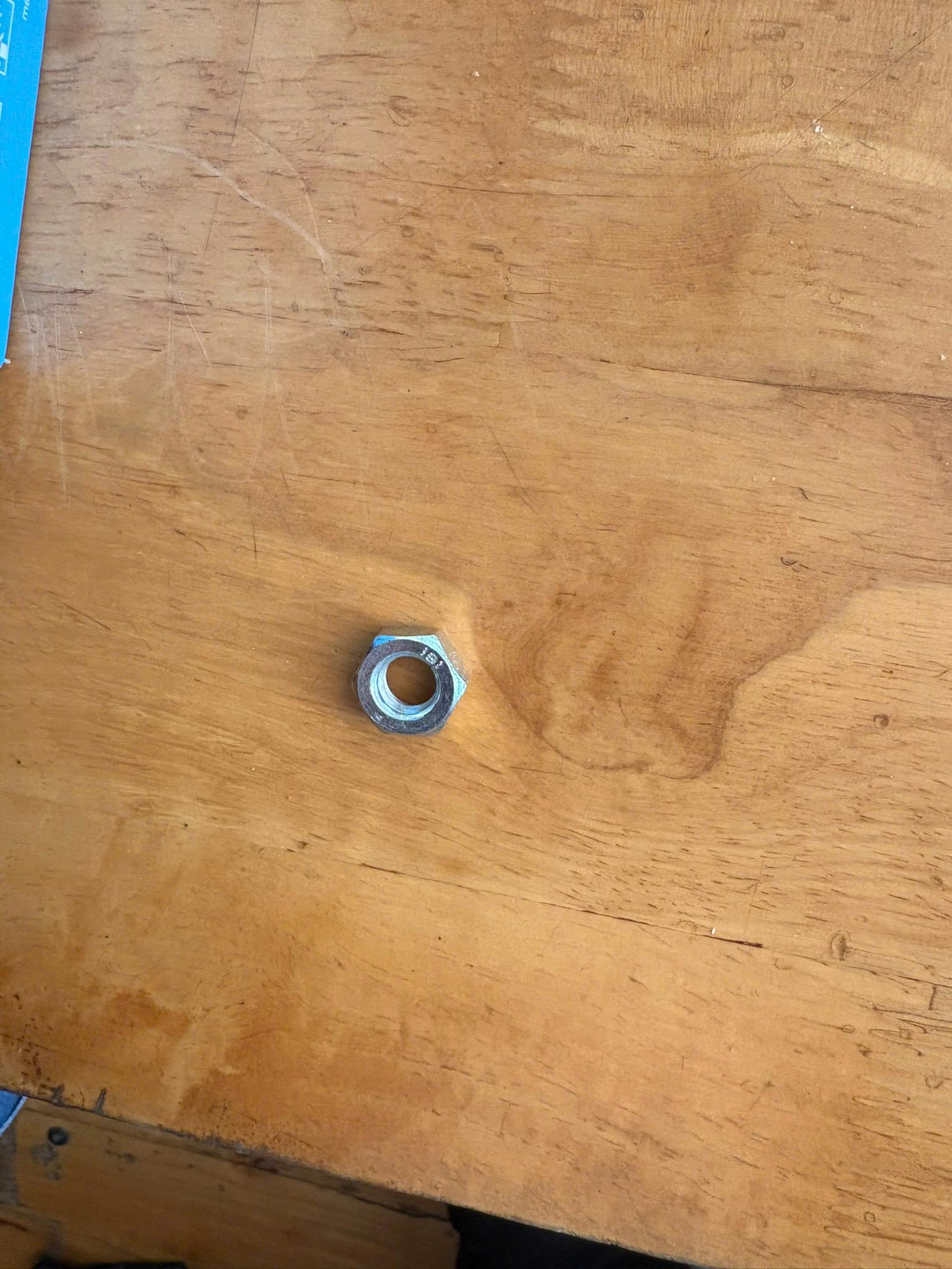nut: (335, 620, 490, 746)
